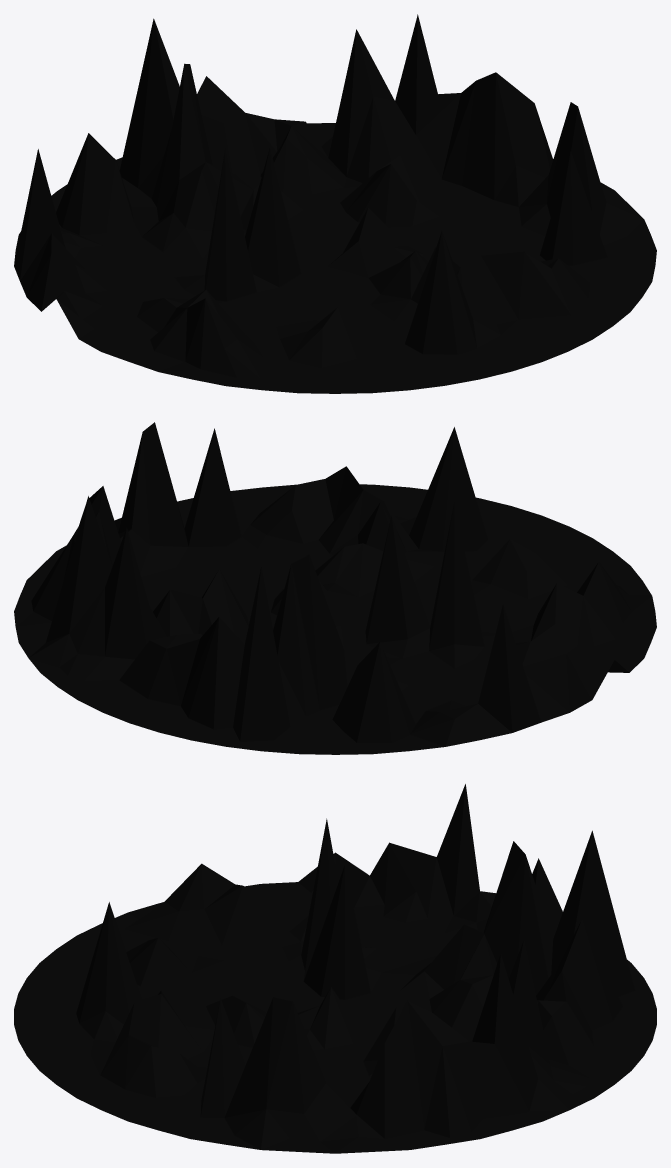
File: thorn_desert.FBX
The picture shows the model from 3 angles, top to bottom: view 1: azimuth 30°, elevation 25°; view 2: azimuth 150°, elevation 25°; view 3: azimuth 270°, elevation 25°; orthographic projection.
Visible parts, largest first — view 1: Circle001; view 2: Circle001; view 3: Circle001.
Part boxes in pixels (box(x1,y1,x2,y2)): Circle001: box(14, 14, 656, 393); Circle001: box(14, 422, 656, 754); Circle001: box(14, 784, 656, 1153).
Size of the model in its own units: 28.67 by 7.84 by 28.48.
